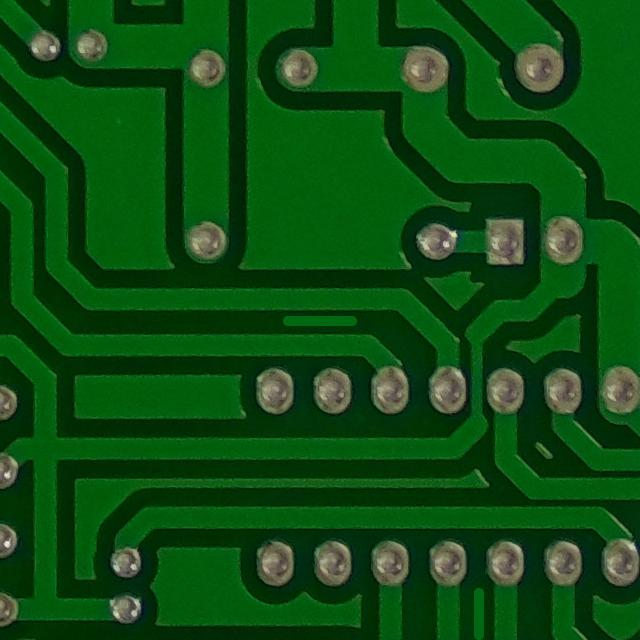spurious_copper: (273, 296, 368, 345)
